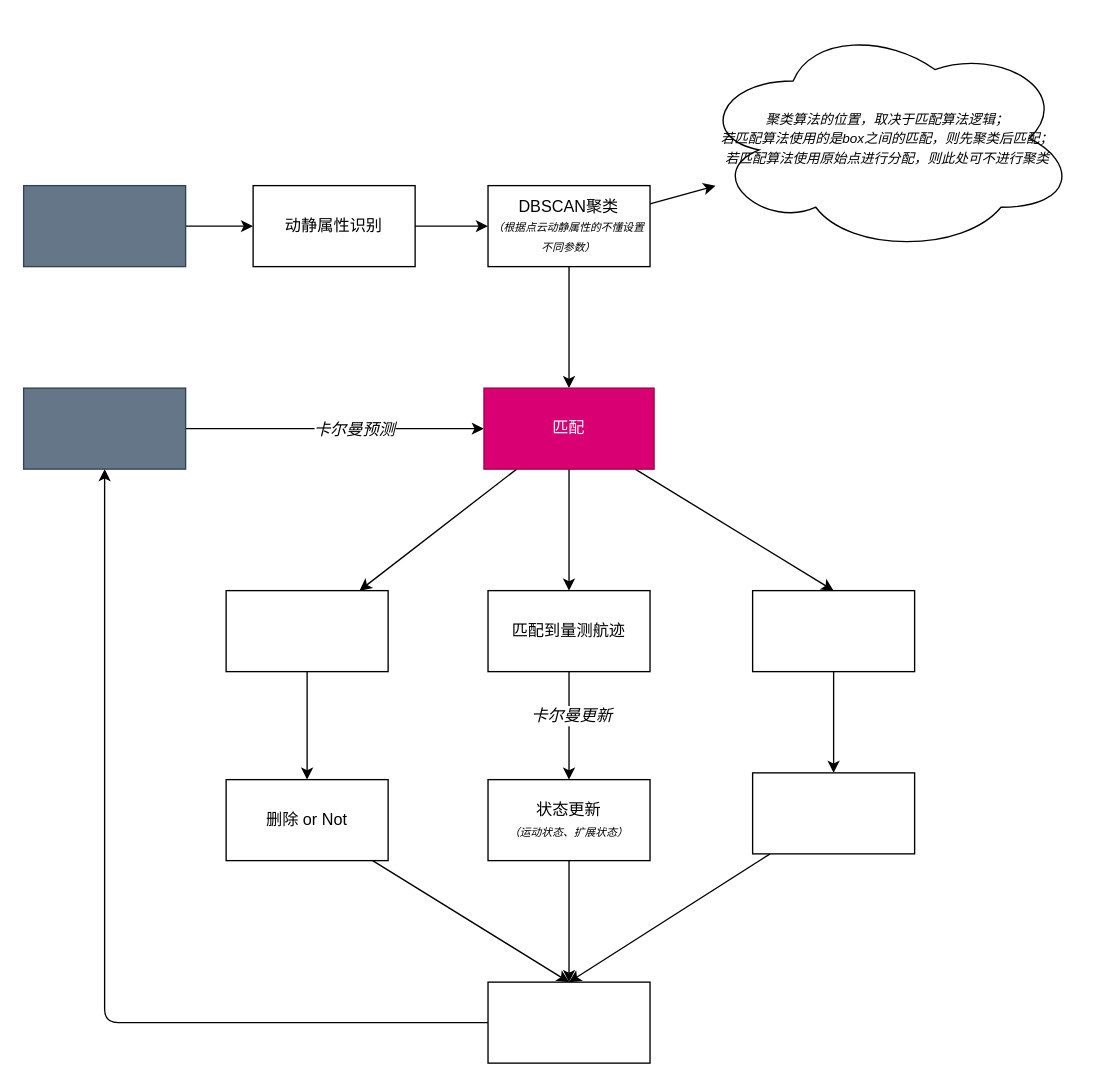
This 1100x1087 diagram has some shape labels left out. Here are the shapes that lost their labels. From the top down, the box of each, then its label:
(22, 184, 186, 267): 毫米波点云输入
(22, 387, 186, 469): k-1时刻航迹
(225, 589, 388, 672): 未匹配到量测航迹
(751, 589, 915, 672): 未分配的量测
